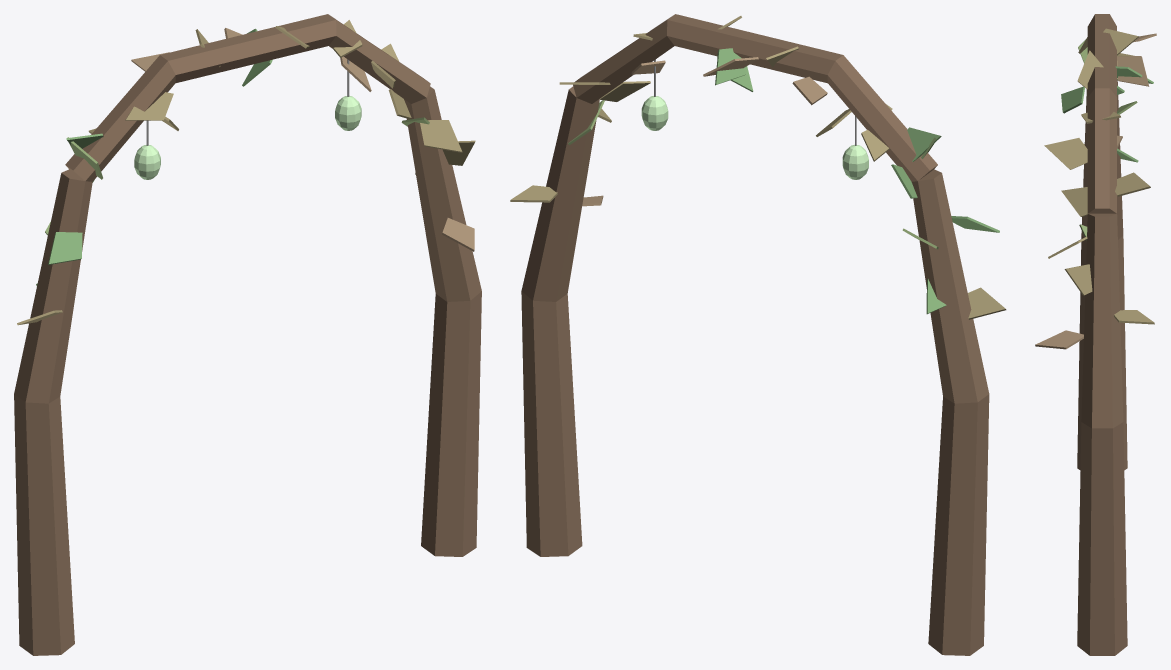
Rendered from LeafArchway.fbx.
3 views of the same model, side by side, from view 1: azimuth 30°, elevation 25°; view 2: azimuth 150°, elevation 25°; view 3: azimuth 270°, elevation 25° (orthographic). The views are drawn at different scales.
Parts seen in each view (by area): view 1: Prop_LeafArchway; view 2: Prop_LeafArchway; view 3: Prop_LeafArchway.
Boxes of the visible parts, box(x1,y1,x2,y2) form: Prop_LeafArchway: box(14, 14, 481, 655); Prop_LeafArchway: box(510, 14, 1006, 655); Prop_LeafArchway: box(1035, 14, 1156, 655).
Bounding box in the file's own units: 2.34 × 2.72 × 0.5802.
